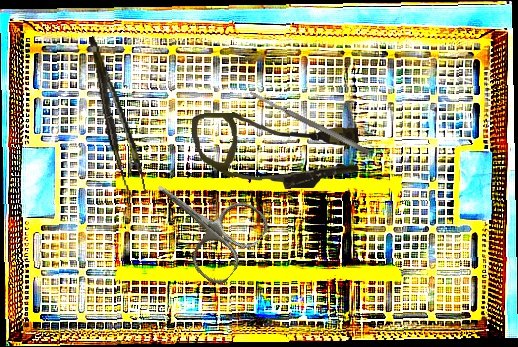Cannula: (191, 108, 361, 192)
Iris Scissors: (132, 152, 274, 290)
Spatula Surgical: (248, 89, 371, 156)
Tissue Forceps: (88, 31, 147, 200)
